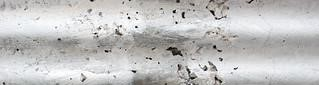Spalling: (1, 1, 240, 85)
